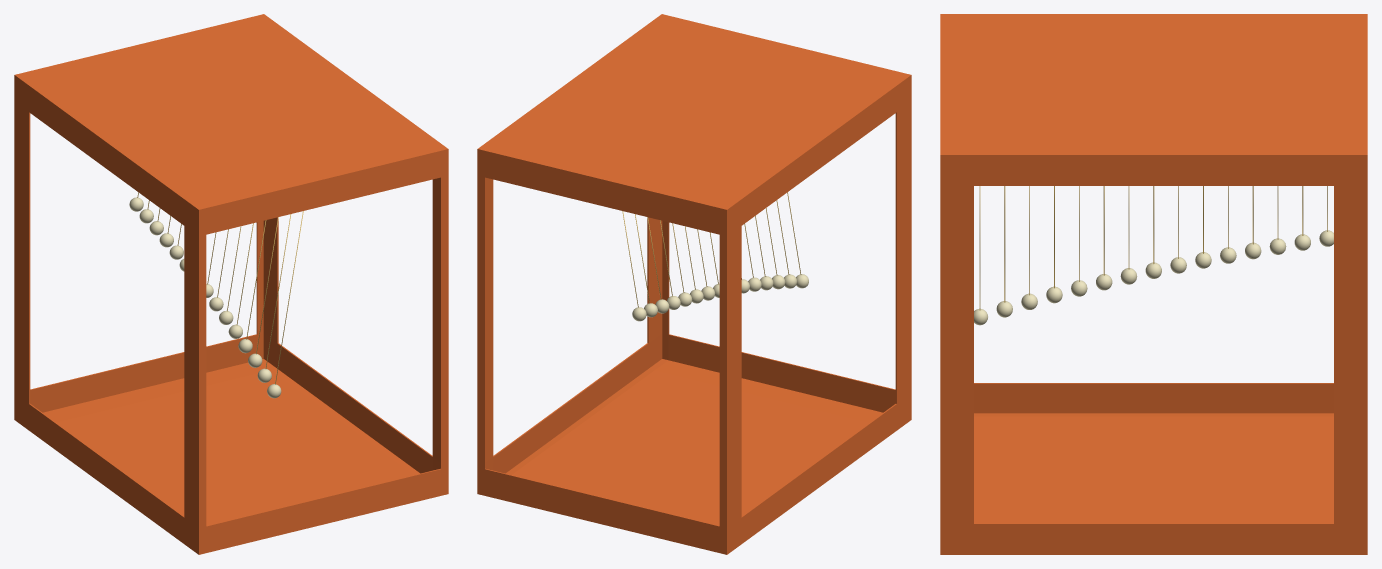
The model's file is pendulum_snake.glb.
3 views of the same model, side by side, from view 1: azimuth 30°, elevation 25°; view 2: azimuth 150°, elevation 25°; view 3: azimuth 270°, elevation 25° (orthographic). The views are drawn at different scales.
Visible parts, largest first — view 1: Cube; view 2: Cube; view 3: Cube.
Boxes of the visible parts, x1=… form: Cube: x1=14, y1=14, x2=448, y2=554; Cube: x1=477, y1=14, x2=911, y2=554; Cube: x1=940, y1=14, x2=1367, y2=554.
Bounding box in the file's own units: 0.8067 × 1.07 × 1.03.
